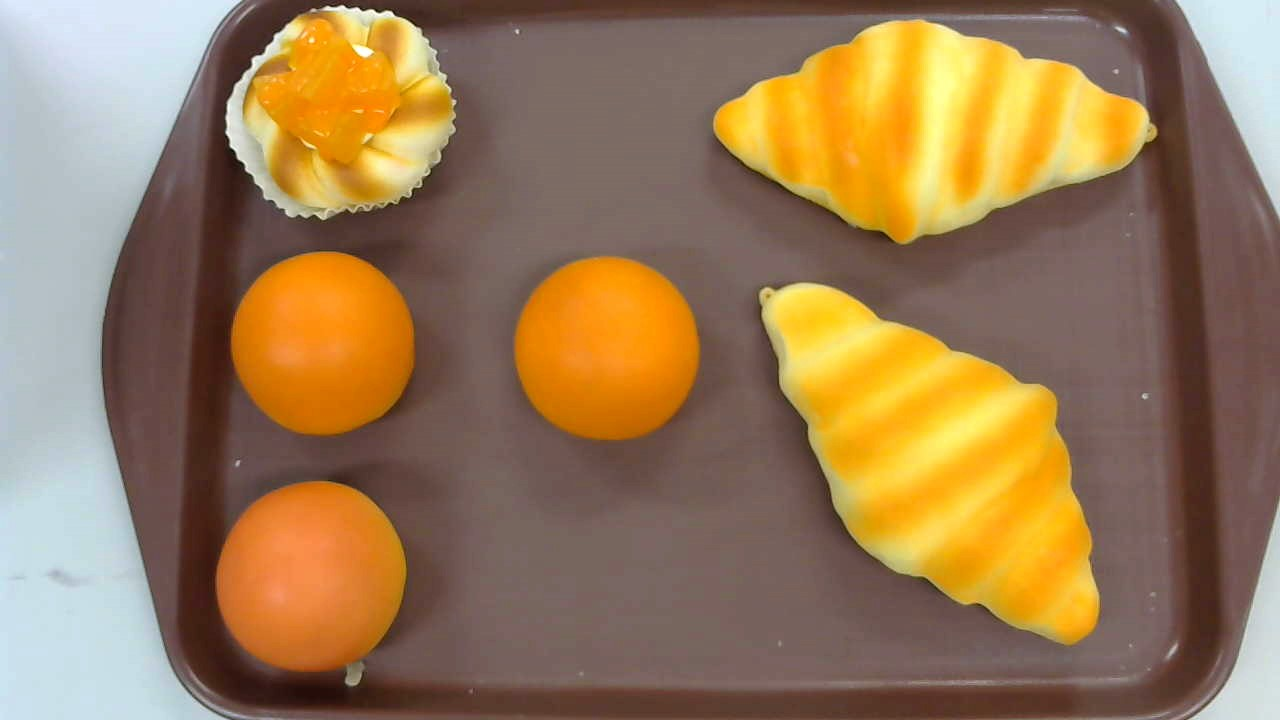bun: (215, 480, 406, 672), (514, 256, 700, 441), (229, 252, 417, 435)
croissant: (759, 284, 1101, 647), (712, 21, 1158, 246)
mango tart: (224, 4, 457, 224)
